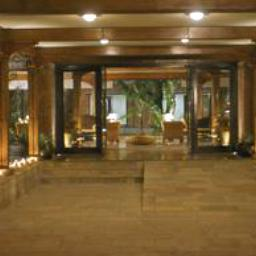Escaleras: (144, 163, 256, 215)
